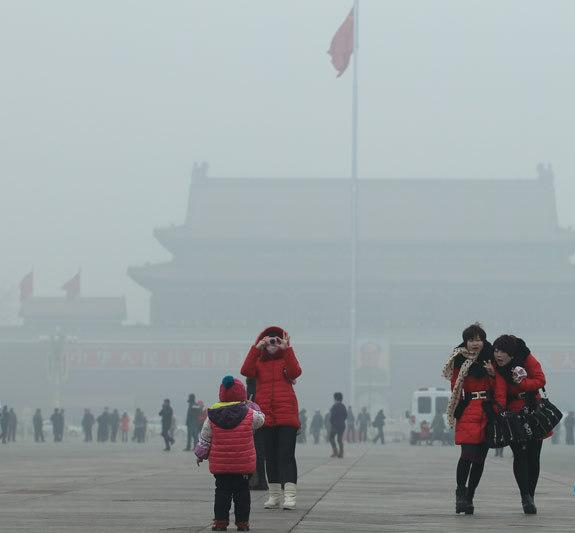car: (404, 384, 461, 445)
person: (441, 321, 506, 515), (193, 374, 266, 533), (239, 324, 301, 509), (490, 332, 545, 515), (328, 392, 348, 459), (182, 392, 202, 452), (159, 398, 176, 452), (428, 405, 446, 446), (355, 406, 372, 444), (80, 406, 96, 443), (32, 406, 46, 445), (372, 409, 387, 444), (309, 409, 324, 444), (345, 404, 358, 444), (132, 406, 145, 444), (109, 406, 121, 444), (50, 406, 62, 443), (1, 403, 11, 444), (7, 406, 18, 443), (56, 407, 67, 442), (102, 406, 112, 442), (418, 418, 430, 446), (121, 410, 130, 444)
